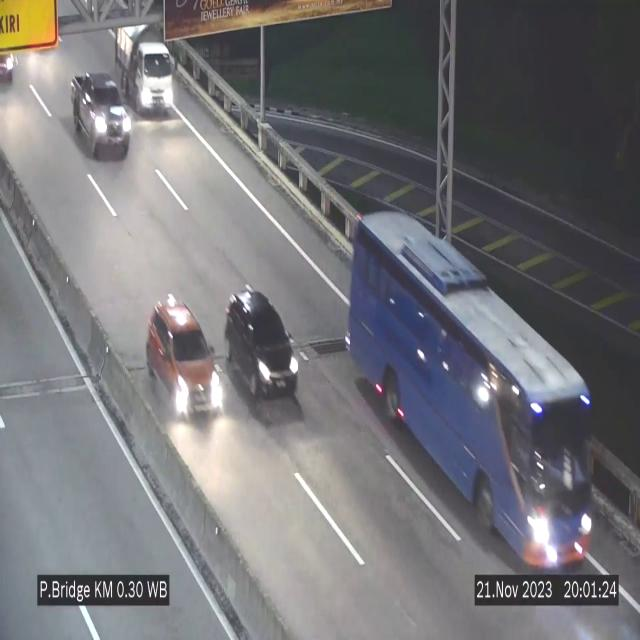Bus: (343, 205, 601, 570)
Car: (147, 296, 225, 417), (224, 288, 298, 409), (71, 72, 131, 158)
Truck: (116, 25, 176, 113)
